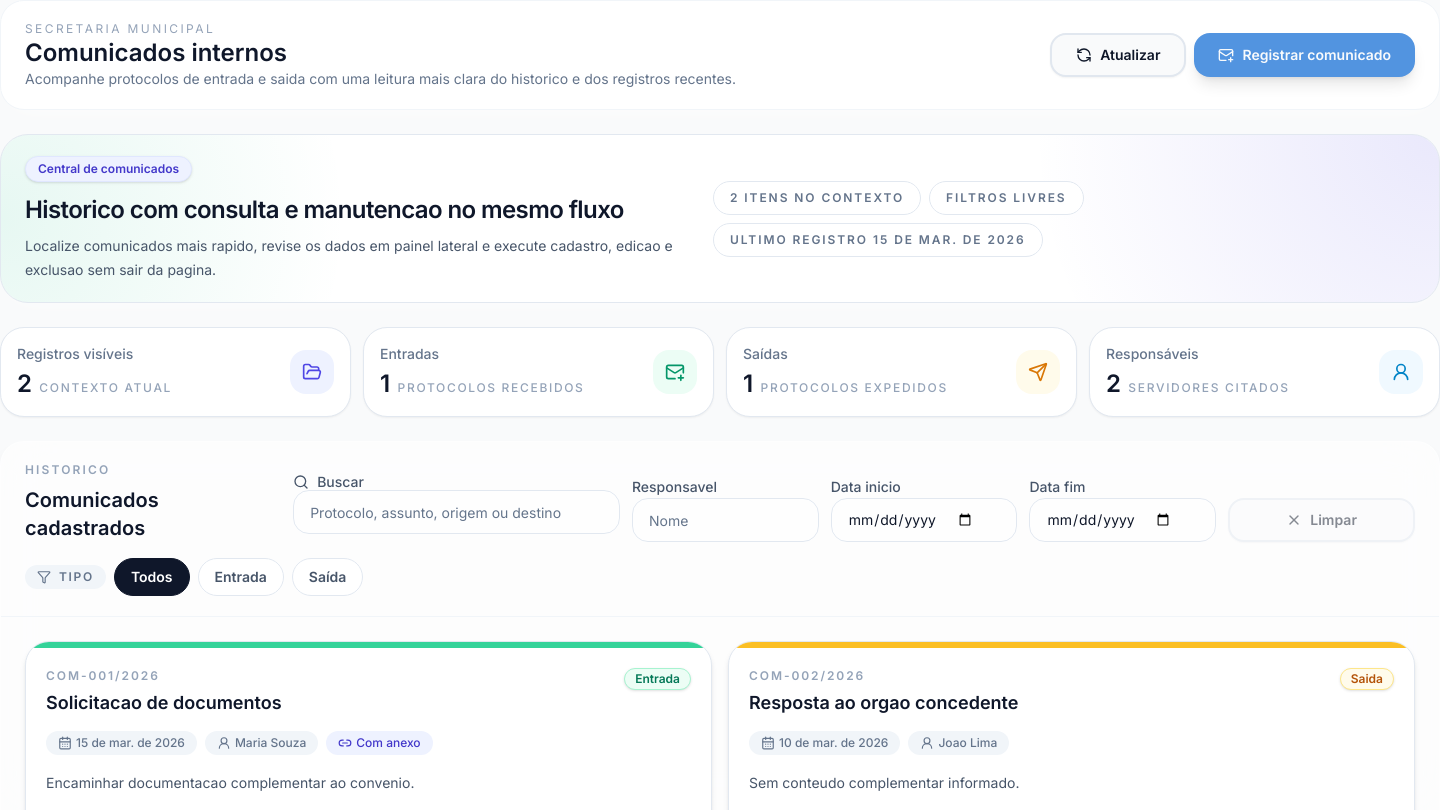
Test: ComunicadosPage › aplica busca e limpa filtros
Step 1. Type "Resposta" into the field labelled "Buscar" → [457, 512], box left=293, top=490, right=620, bottom=534
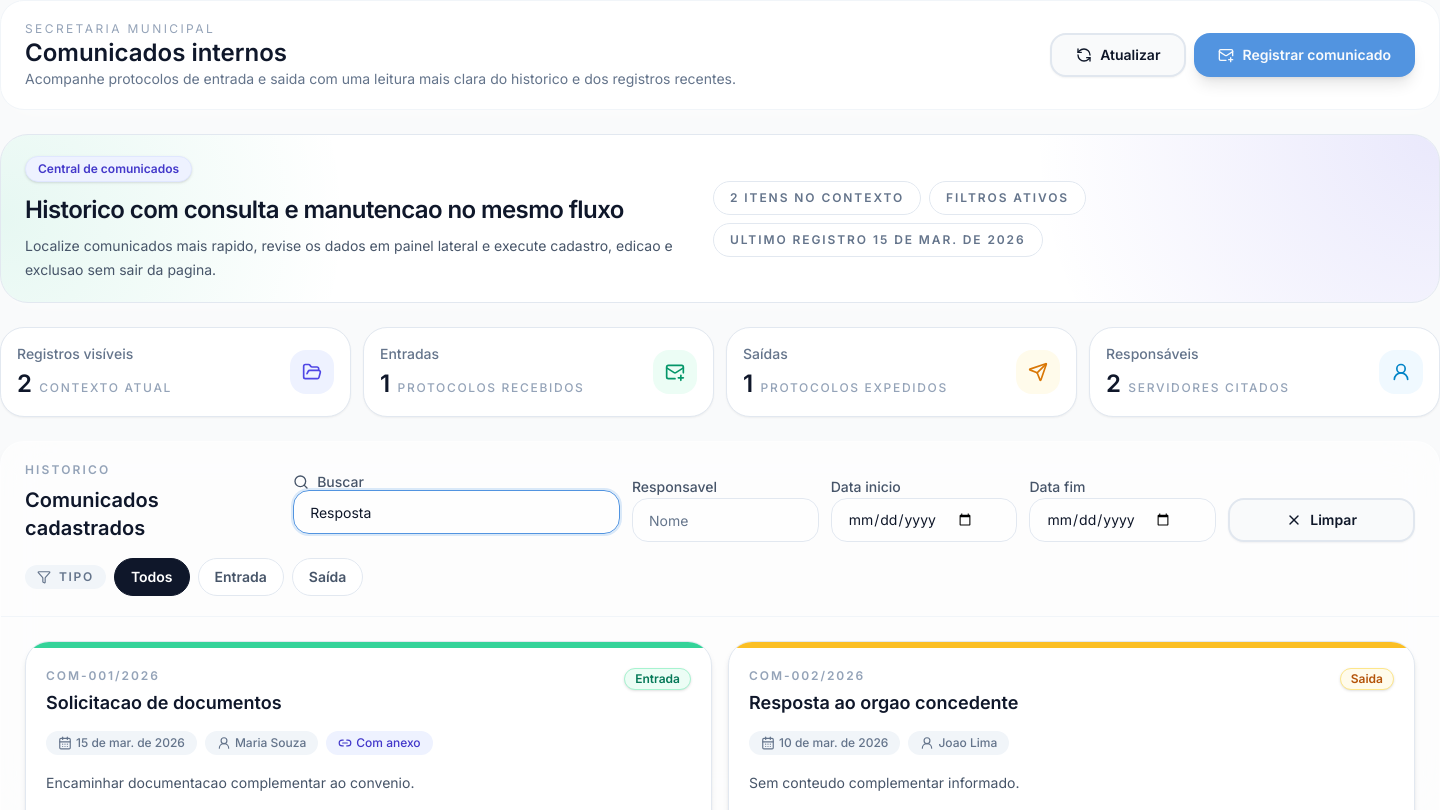
Step 2. Click the button "Limpar" → [1322, 520], box left=1228, top=498, right=1415, bottom=542
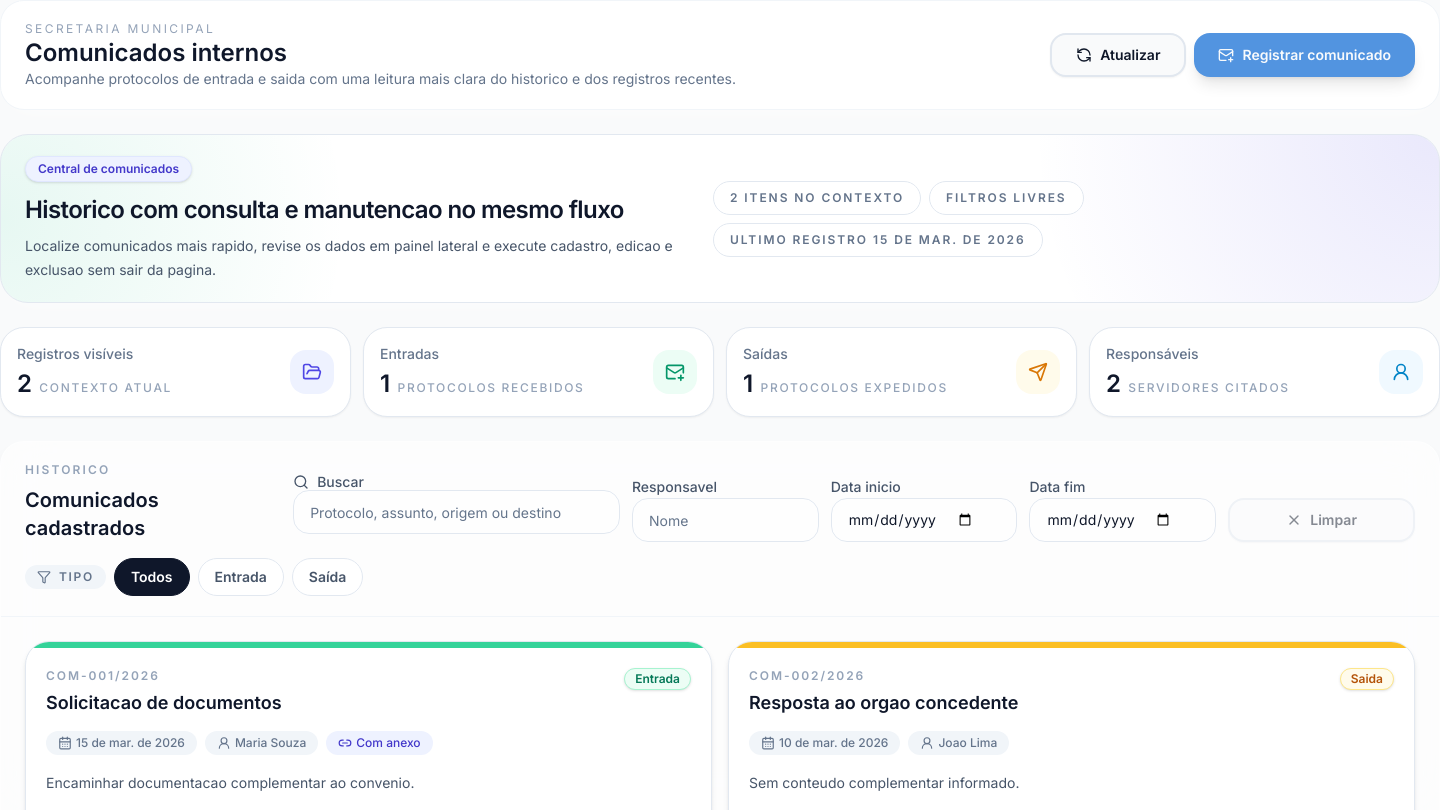
Now the field labelled "Buscar" is empty, box left=293, top=490, right=620, bottom=534
